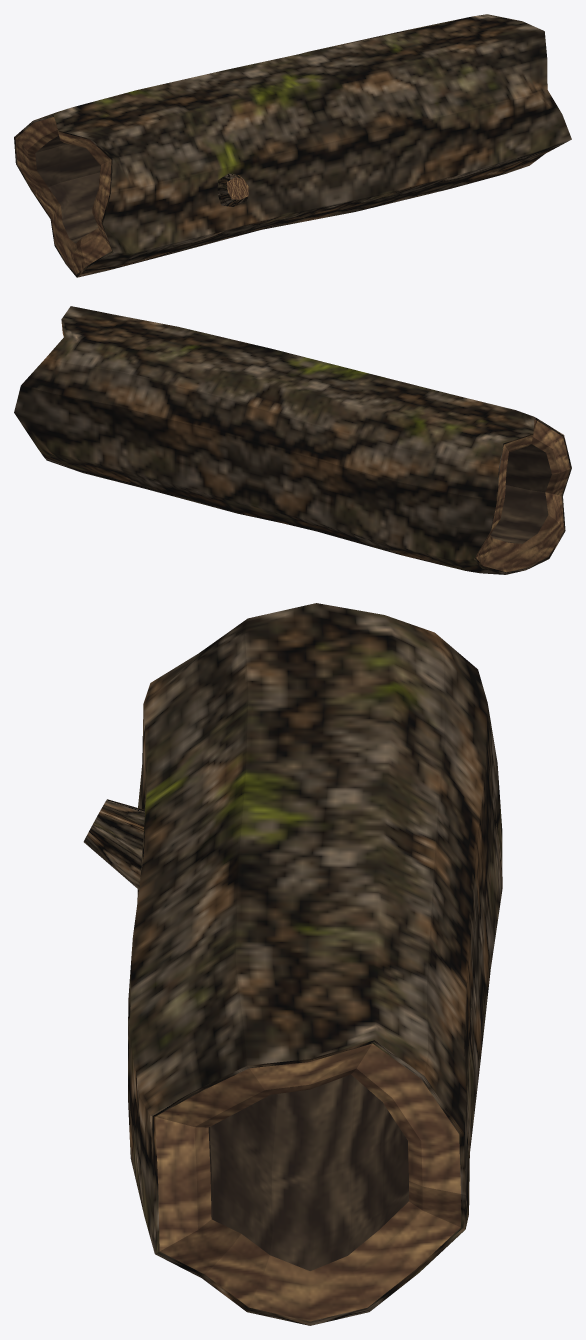
File: Tronco-Oco.glb
3 views of the same model, one above another, from view 1: azimuth 30°, elevation 25°; view 2: azimuth 150°, elevation 25°; view 3: azimuth 270°, elevation 25° (orthographic). The views are drawn at different scales.
Visible parts, largest first — view 1: Casca com musgo, Madeira exposta, Parede do oco, Nó de galho; view 2: Casca com musgo, Madeira exposta, Parede do oco; view 3: Casca com musgo, Madeira exposta, Parede do oco, Nó de galho.
Boxes of the visible parts, left/top/right/bottom form: Casca com musgo: left=34, top=14, right=571, bottom=277; Madeira exposta: left=14, top=115, right=113, bottom=277; Parede do oco: left=35, top=135, right=100, bottom=243; Nó de galho: left=217, top=173, right=248, bottom=206; Casca com musgo: left=14, top=306, right=534, bottom=574; Madeira exposta: left=61, top=322, right=571, bottom=574; Parede do oco: left=490, top=444, right=551, bottom=543; Casca com musgo: left=128, top=603, right=502, bottom=1252; Madeira exposta: left=150, top=1040, right=465, bottom=1325; Parede do oco: left=208, top=1074, right=408, bottom=1270; Nó de galho: left=83, top=799, right=144, bottom=889.
Bounding box in the file's own units: 1.75 × 0.4827 × 0.6663.
4 materials, 4 textured.
